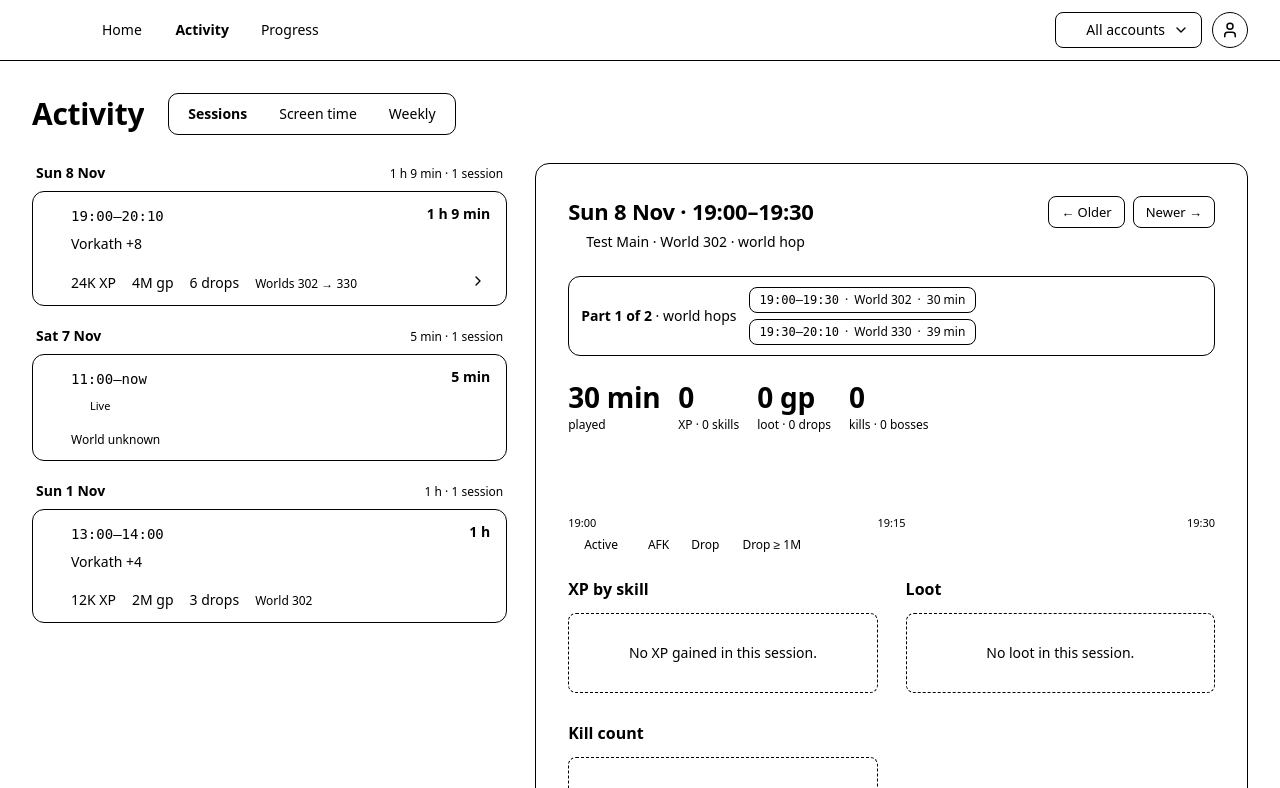
Test: Sessions page on PC: list and selected session › shows the hop chain from the list: part, links and the current part
The image size is (1280, 788).
Expected: the navigation bar "world hops" shows "Part 1 of 2", [568,276,1215,356]
Click the link "19:30–20:10 · World 330 · 39 min" at [862, 332], box [748,320,976,346]
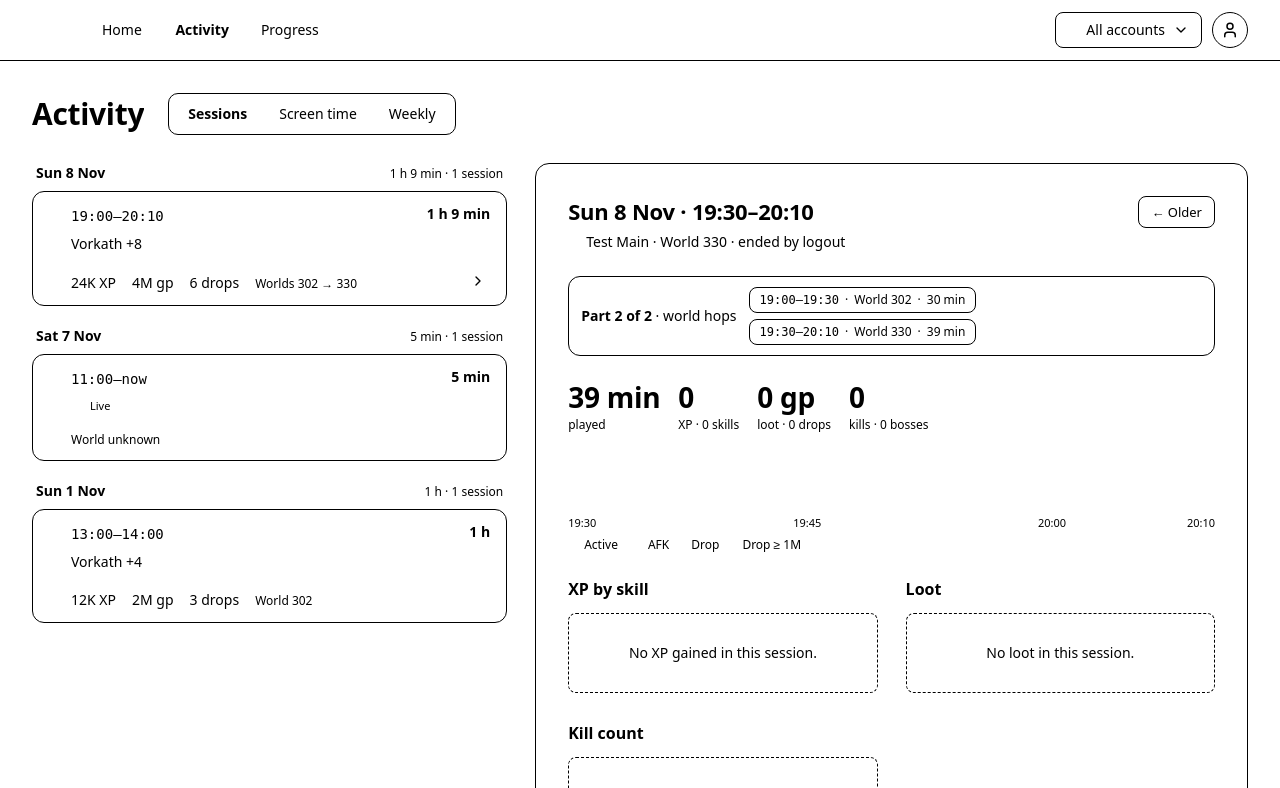
Now the navigation bar "world hops" shows "Part 2 of 2", box [568,276,1215,356]
